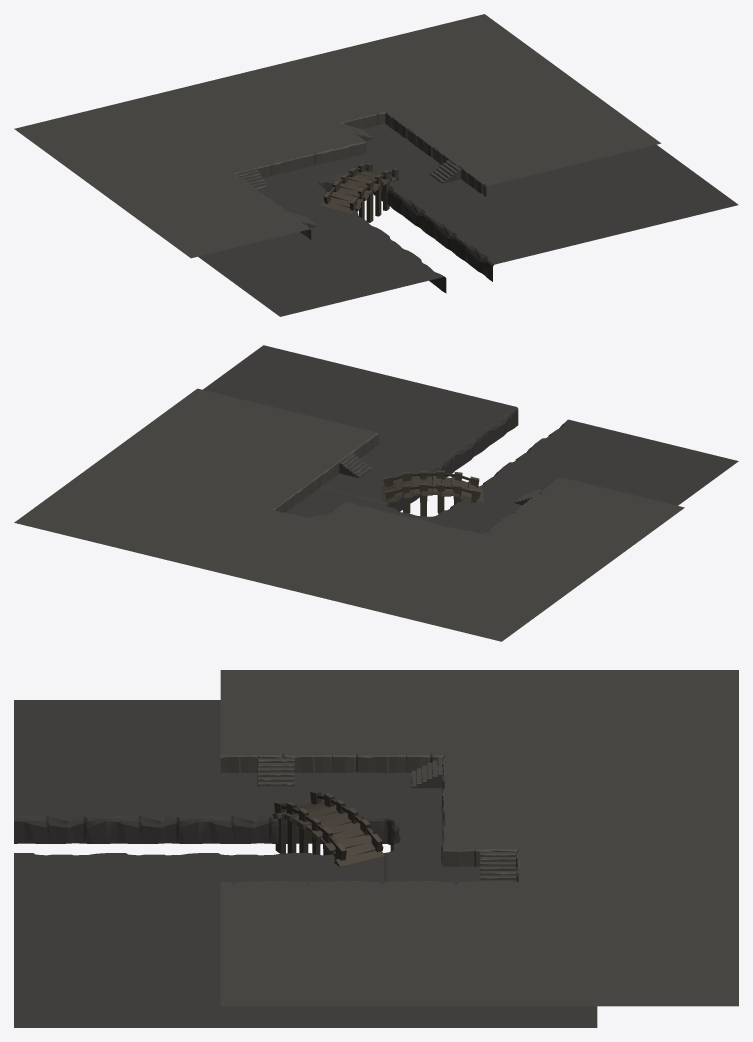
Rendered from ZB_01_Walkable.fbx.
The picture shows the model from 3 angles, top to bottom: view 1: azimuth 30°, elevation 25°; view 2: azimuth 150°, elevation 25°; view 3: azimuth 270°, elevation 25°; orthographic projection. The views are drawn at different scales.
Visible parts, largest first — view 1: Walk01; view 2: Walk01; view 3: Walk01.
Part boxes in pixels (left/top/right/bottom): Walk01: left=14, top=14, right=738, bottom=316; Walk01: left=14, top=345, right=738, bottom=641; Walk01: left=14, top=670, right=738, bottom=1027.
Size of the model in its own units: 436 by 34.66 by 392.
